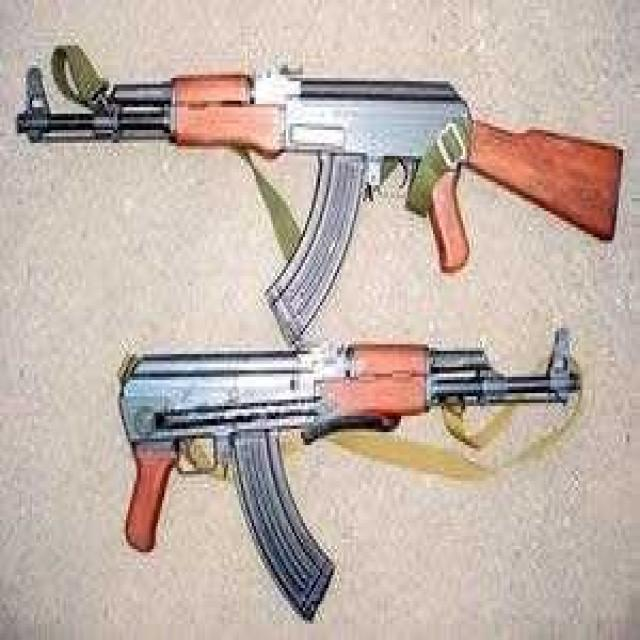heavyweapon: (10, 31, 631, 320), (99, 294, 594, 609)
